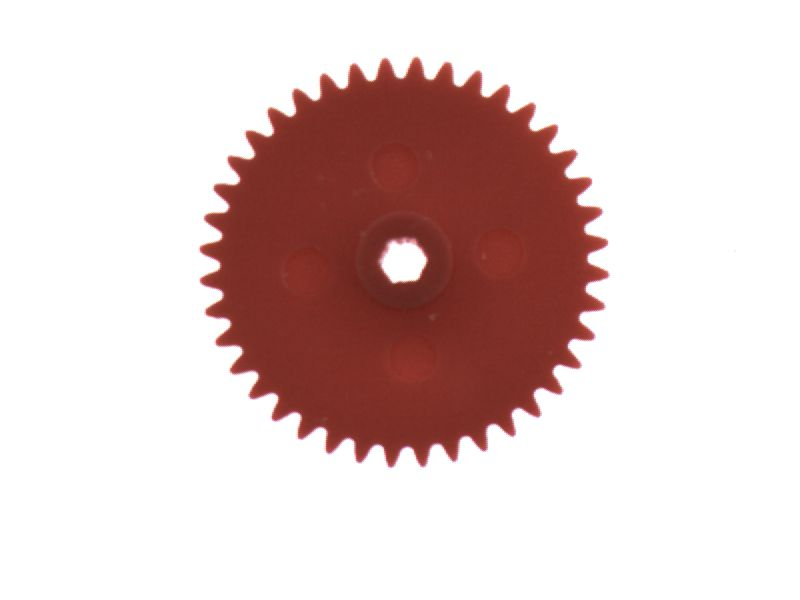good_product: (185, 47, 628, 477)
